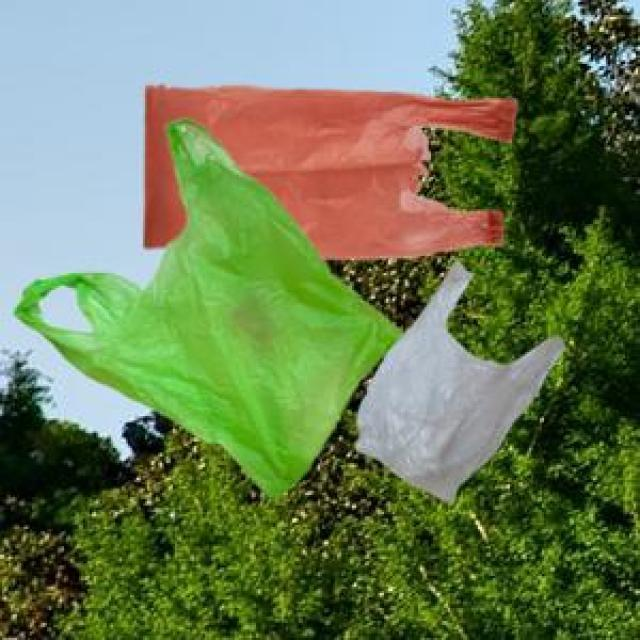Bolsa-de-nilon: (10, 127, 388, 505), (117, 85, 555, 262), (366, 254, 566, 528)
